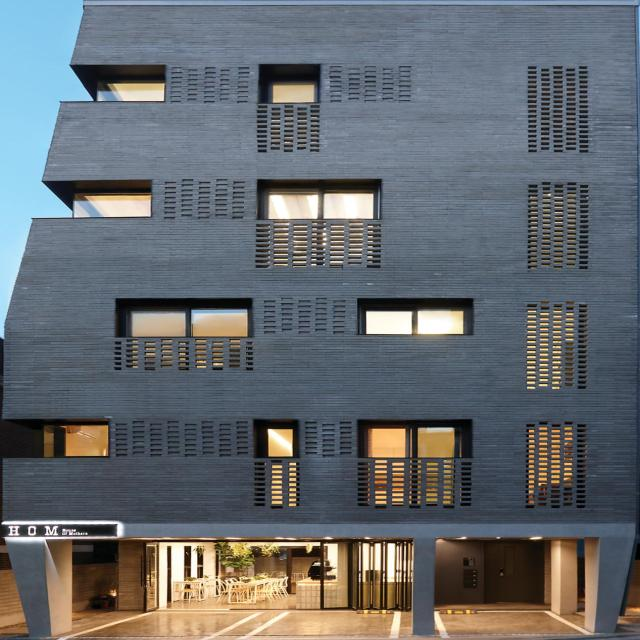door: (160, 542, 353, 609), (483, 541, 541, 604)
window: (263, 188, 376, 219), (124, 307, 244, 336), (363, 304, 469, 334), (366, 426, 461, 457), (44, 425, 109, 456), (74, 192, 151, 217), (97, 79, 163, 103), (261, 426, 294, 458), (271, 83, 315, 103)
